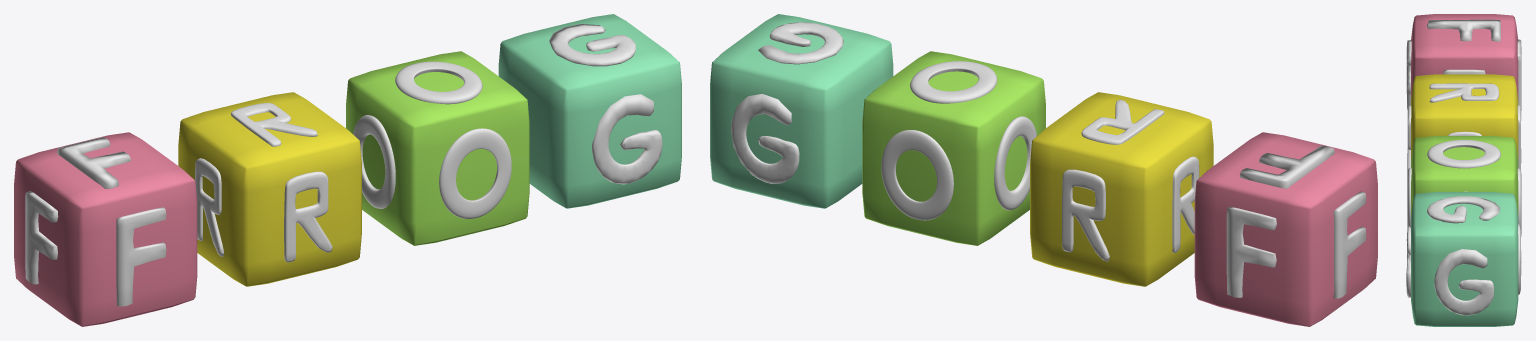
Rendered from lelu_kuutiot_valmis 1.fbx.
3 views of the same model, side by side, from view 1: azimuth 30°, elevation 25°; view 2: azimuth 150°, elevation 25°; view 3: azimuth 270°, elevation 25° (orthographic). The views are drawn at different scales.
Visible parts, largest first — view 1: F, O, R, G; view 2: F, O, R, G; view 3: G, F, R, O.
Part boxes in pixels (x1=…): F: x1=14, y1=132, x2=197, y2=326; O: x1=346, y1=51, x2=529, y2=245; R: x1=178, y1=92, x2=361, y2=286; G: x1=498, y1=14, x2=681, y2=208; F: x1=1194, y1=132, x2=1377, y2=326; O: x1=862, y1=51, x2=1045, y2=245; R: x1=1030, y1=92, x2=1213, y2=286; G: x1=710, y1=14, x2=893, y2=208; G: x1=1406, y1=192, x2=1521, y2=326; F: x1=1406, y1=14, x2=1521, y2=120; R: x1=1407, y1=74, x2=1521, y2=171; O: x1=1407, y1=136, x2=1521, y2=236.
Size of the model in its own units: 0.8145 by 0.1763 by 0.1747.
